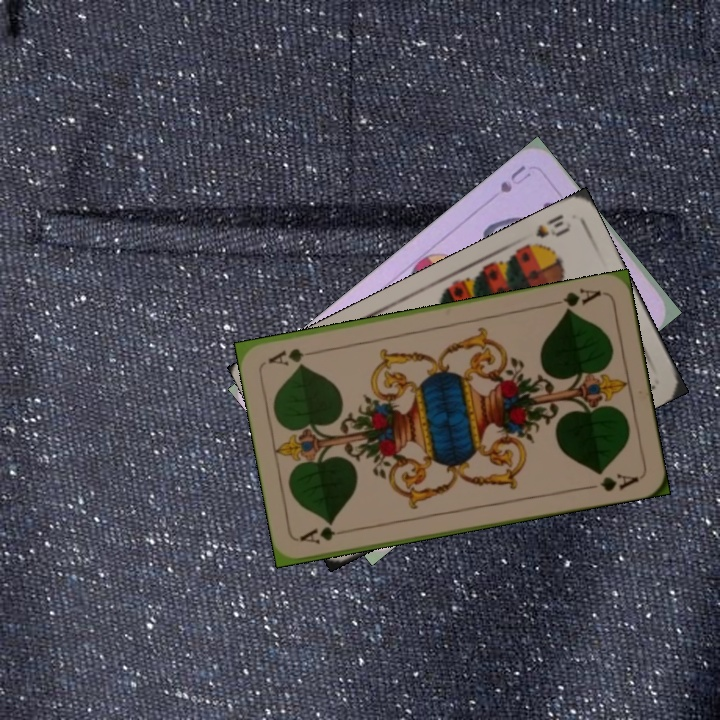GA: (547, 284, 604, 315), (296, 521, 355, 547)
S10: (520, 210, 574, 253)
SU: (496, 161, 534, 196)
